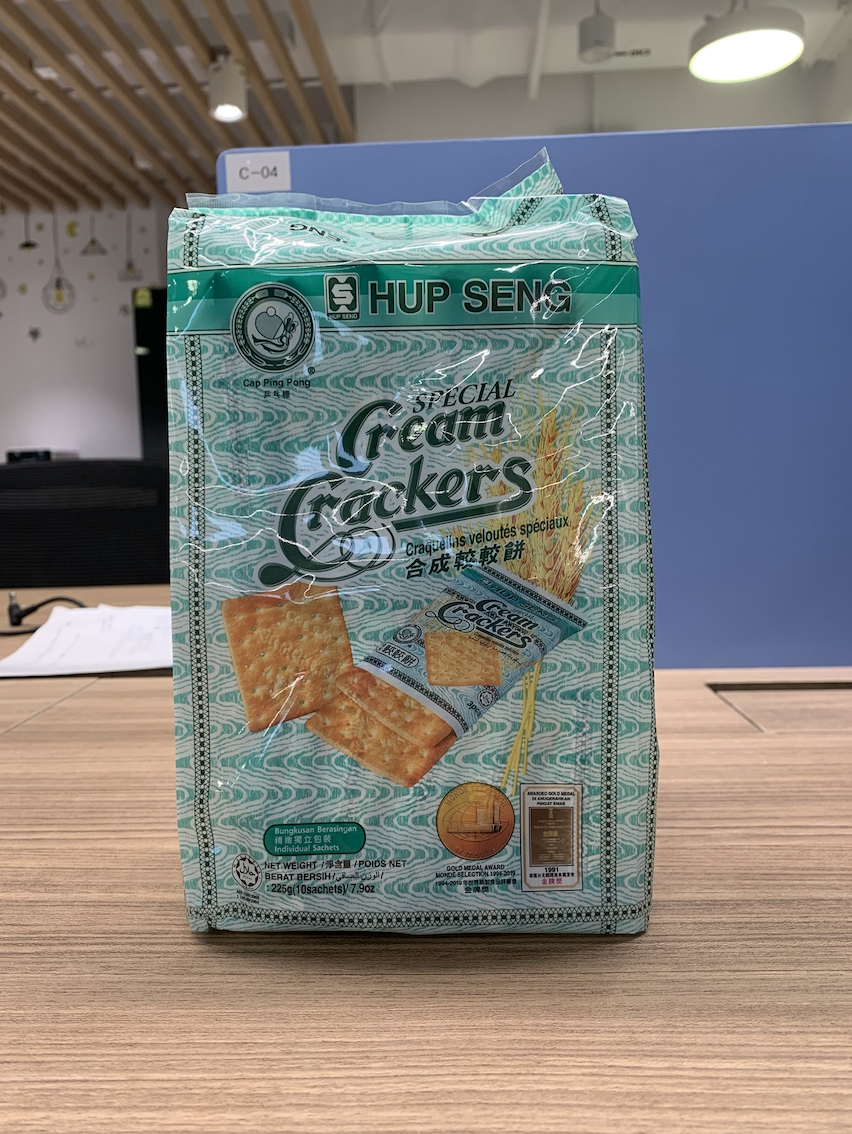crackers_200g-299g: (187, 217, 644, 918)
